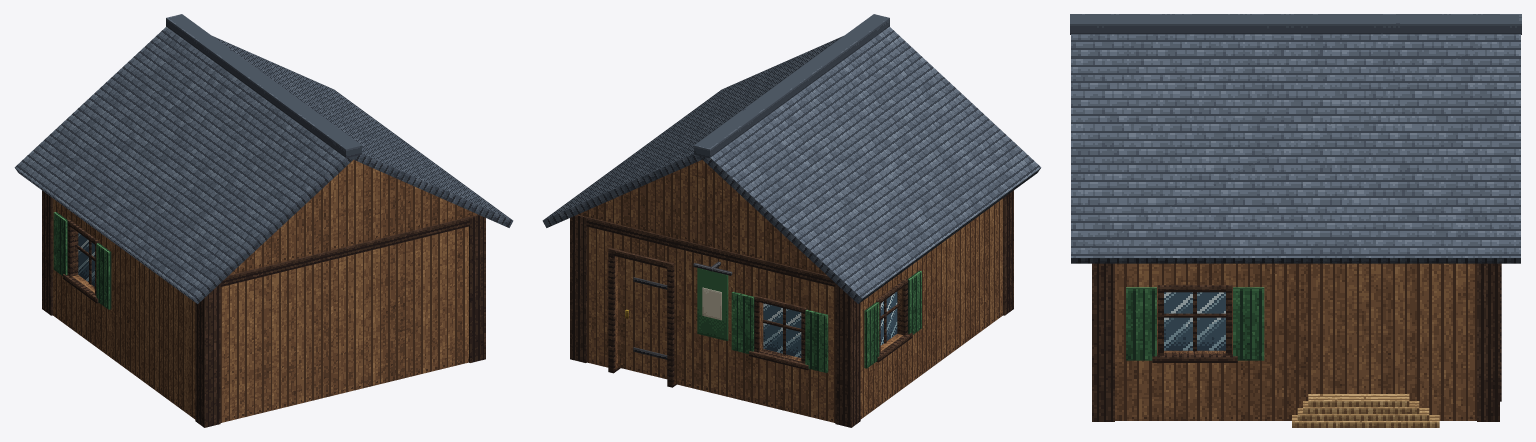
File: workshop.glb
3 renders of one model, left to right at view 1: azimuth 30°, elevation 25°; view 2: azimuth 150°, elevation 25°; view 3: azimuth 270°, elevation 25°, orthographic. The views are drawn at different scales.
Parts seen in each view (by area): view 1: workshop; view 2: workshop; view 3: workshop.
Part boxes in pixels (x1,y1,x2,y2): workshop: (14,14,513,427); workshop: (542,14,1041,427); workshop: (1070,14,1521,427).
Bounding box in the file's own units: 5.98 × 4.56 × 5.82.
Materials: 9 (9 with a texture image).
